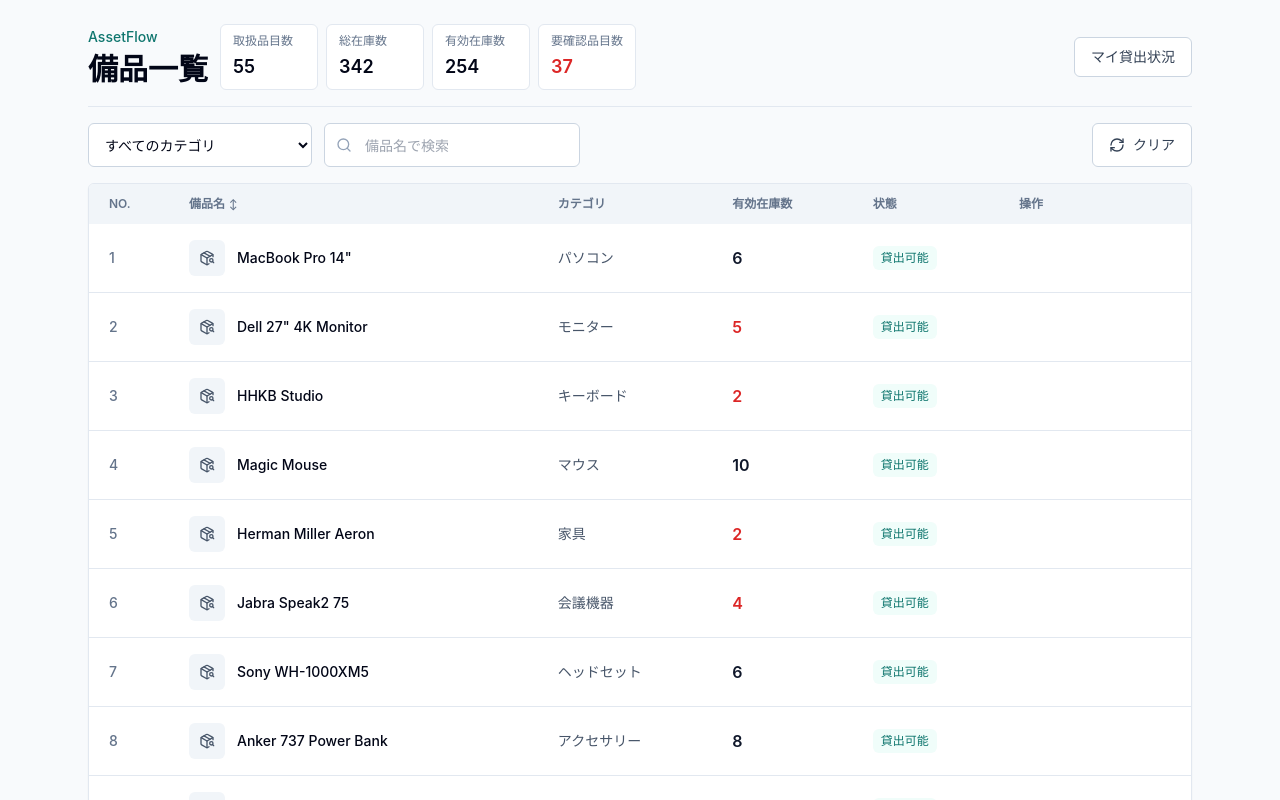
AssetListPage › 039: 備品名並び替えボタンで昇順と降順に切り替わる
Click the button named "備品名↕": (213, 204) [189, 196, 238, 212]
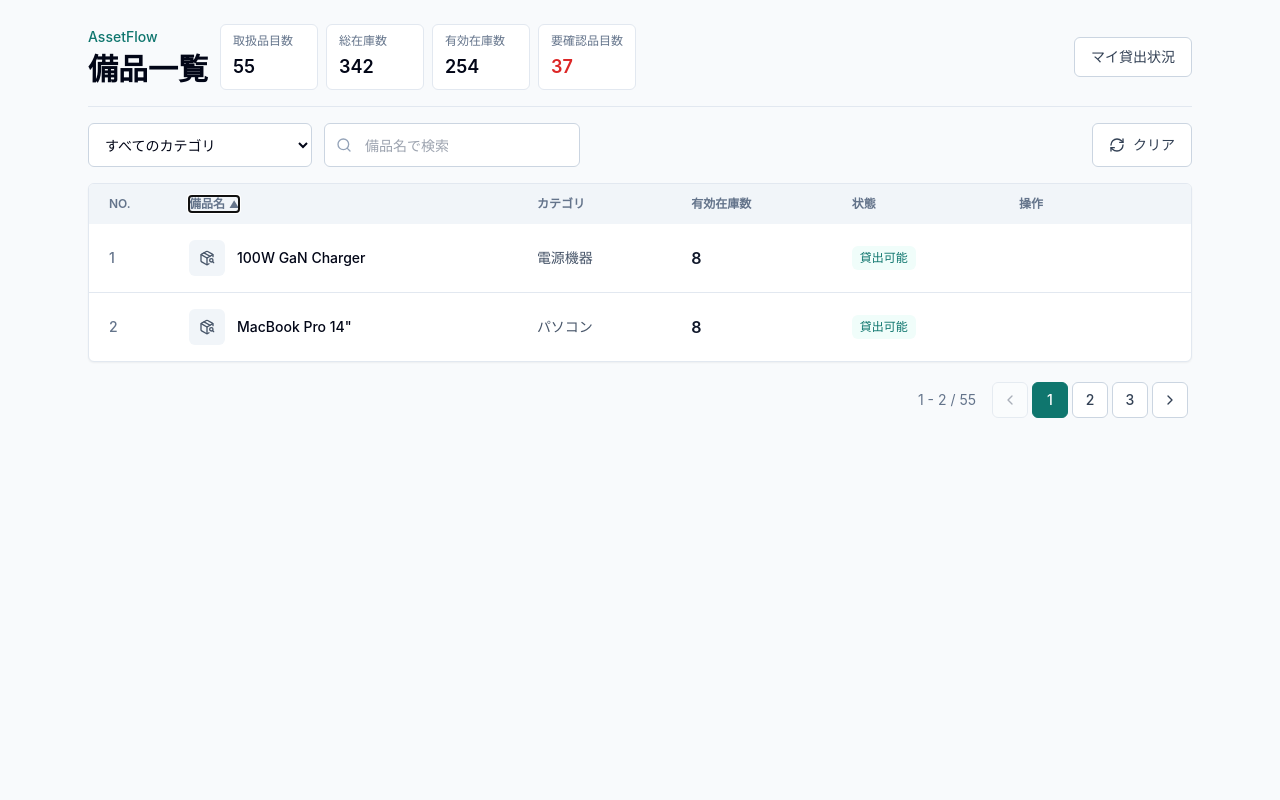
expect the text "100W GaN Charger" is shown: met, box [237, 248, 366, 268]
Click the button named "備品名▲": (214, 204) [189, 196, 239, 212]
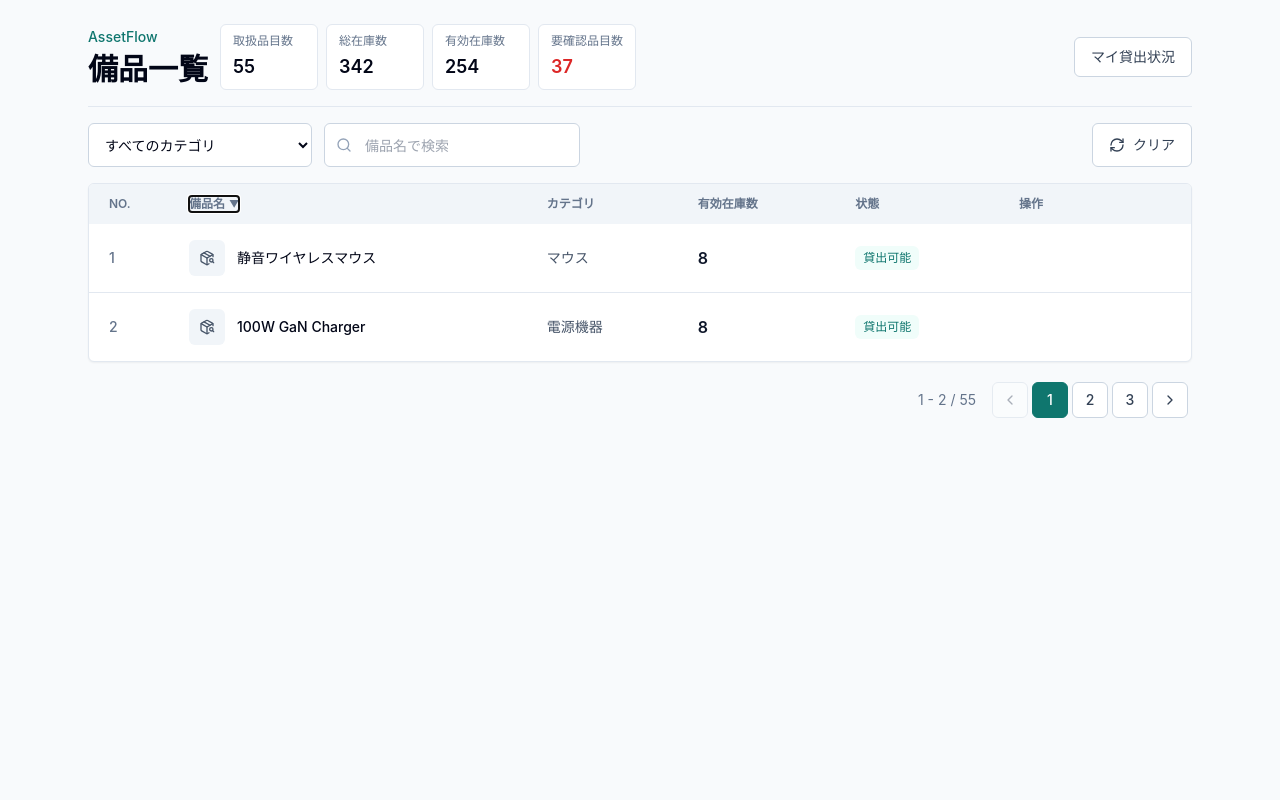
expect the text "静音ワイヤレスマウス" is shown: met, box [237, 248, 376, 268]
